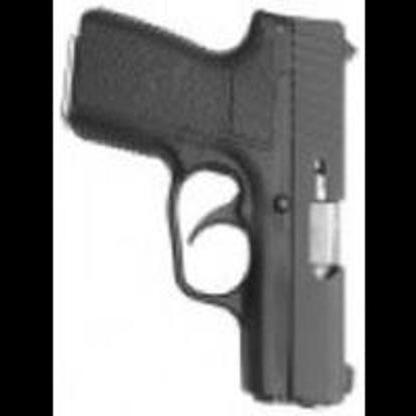weapon: (63, 8, 359, 408)
